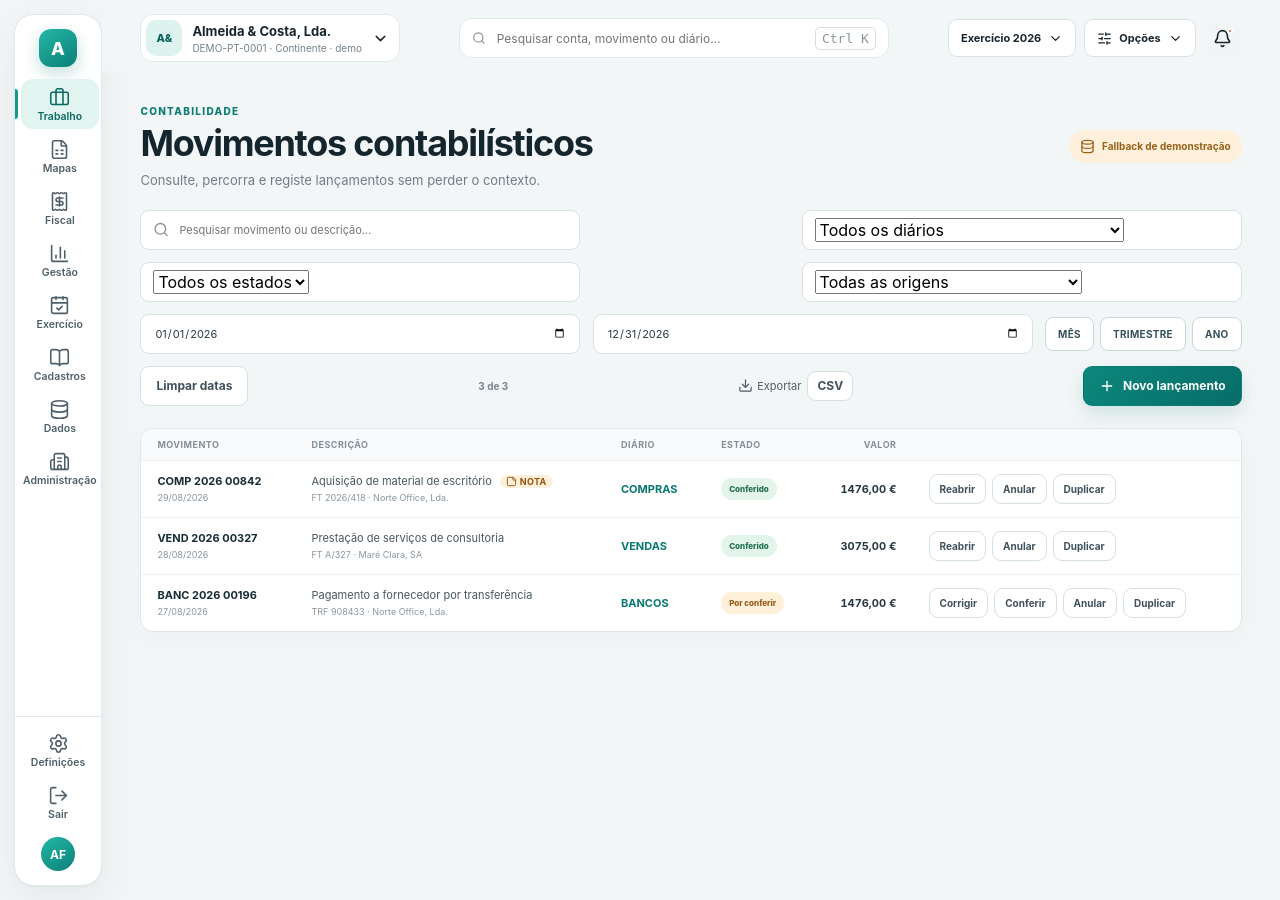
Test case: App › suggests movement accounts while typing in the editor
The width and height of the screenshot is (1280, 900).
Click the button "Novo lançamento": click(1162, 386) top-left (1083, 366), bottom-right (1242, 406)
(page scrolled)
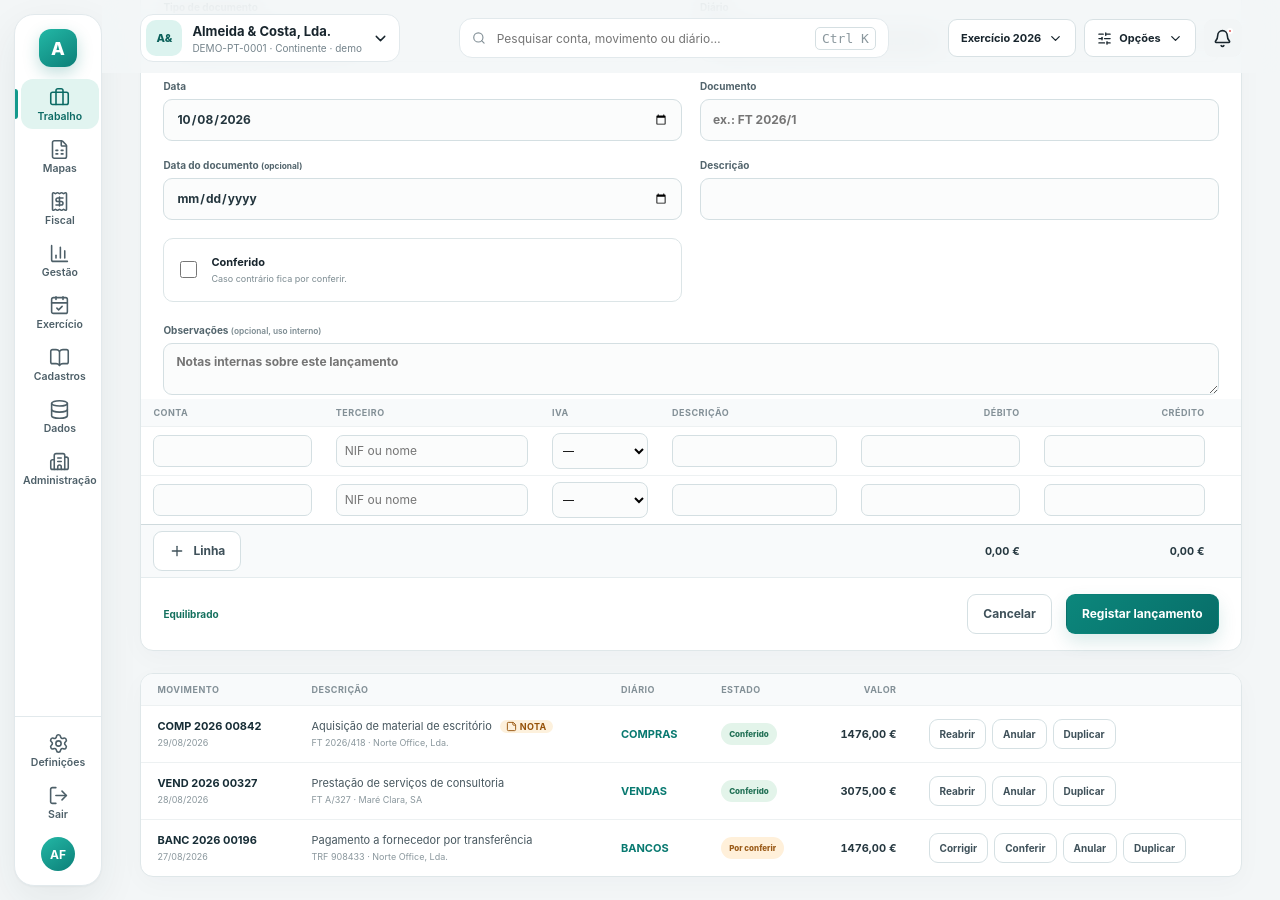
In the dropdown named "Conta da linha 1": (233, 451) top-left (153, 435), bottom-right (312, 467), type "22"
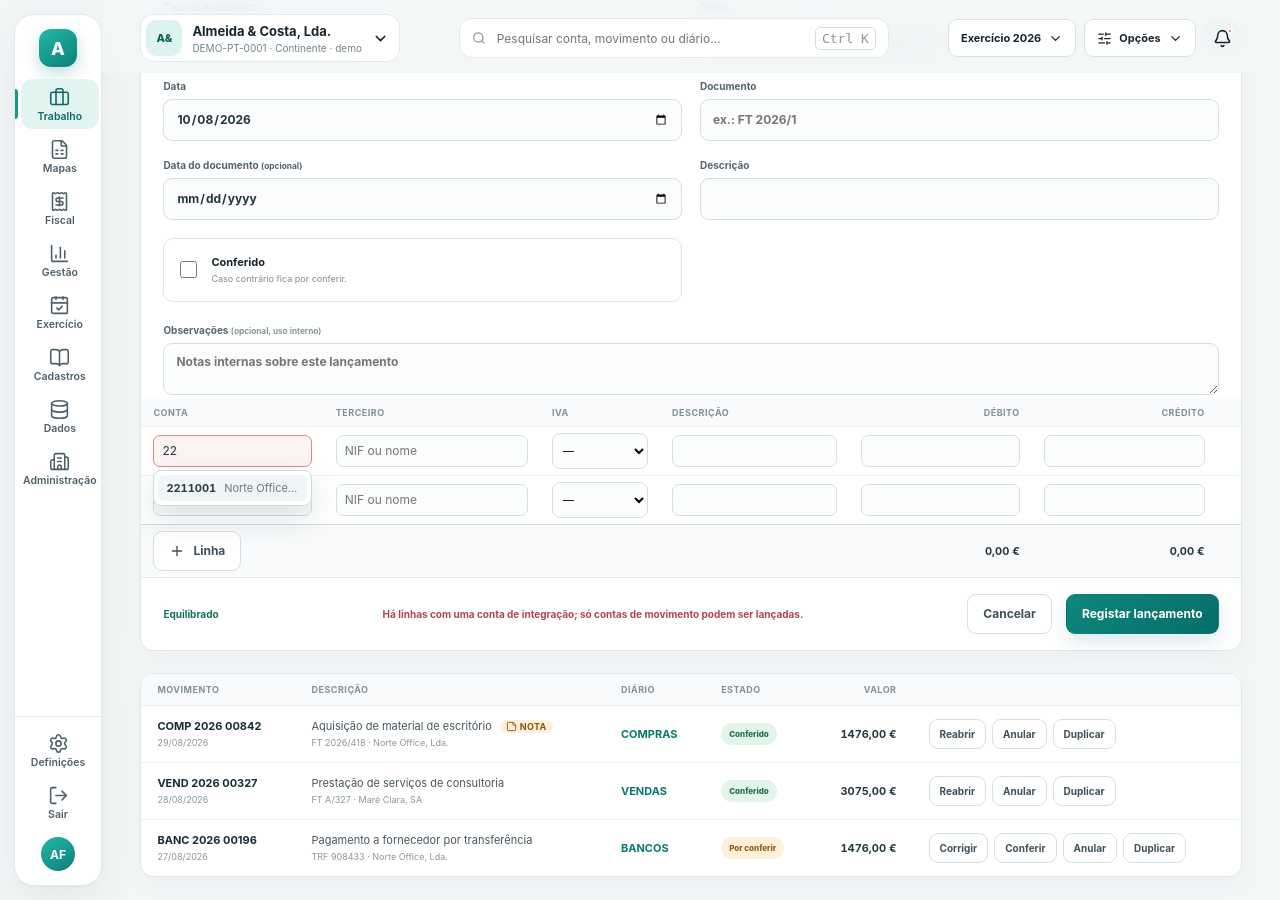
Expected: the text "2211001" is shown
Press the mouse on the text "2211001": (191, 488) top-left (166, 481), bottom-right (216, 495)
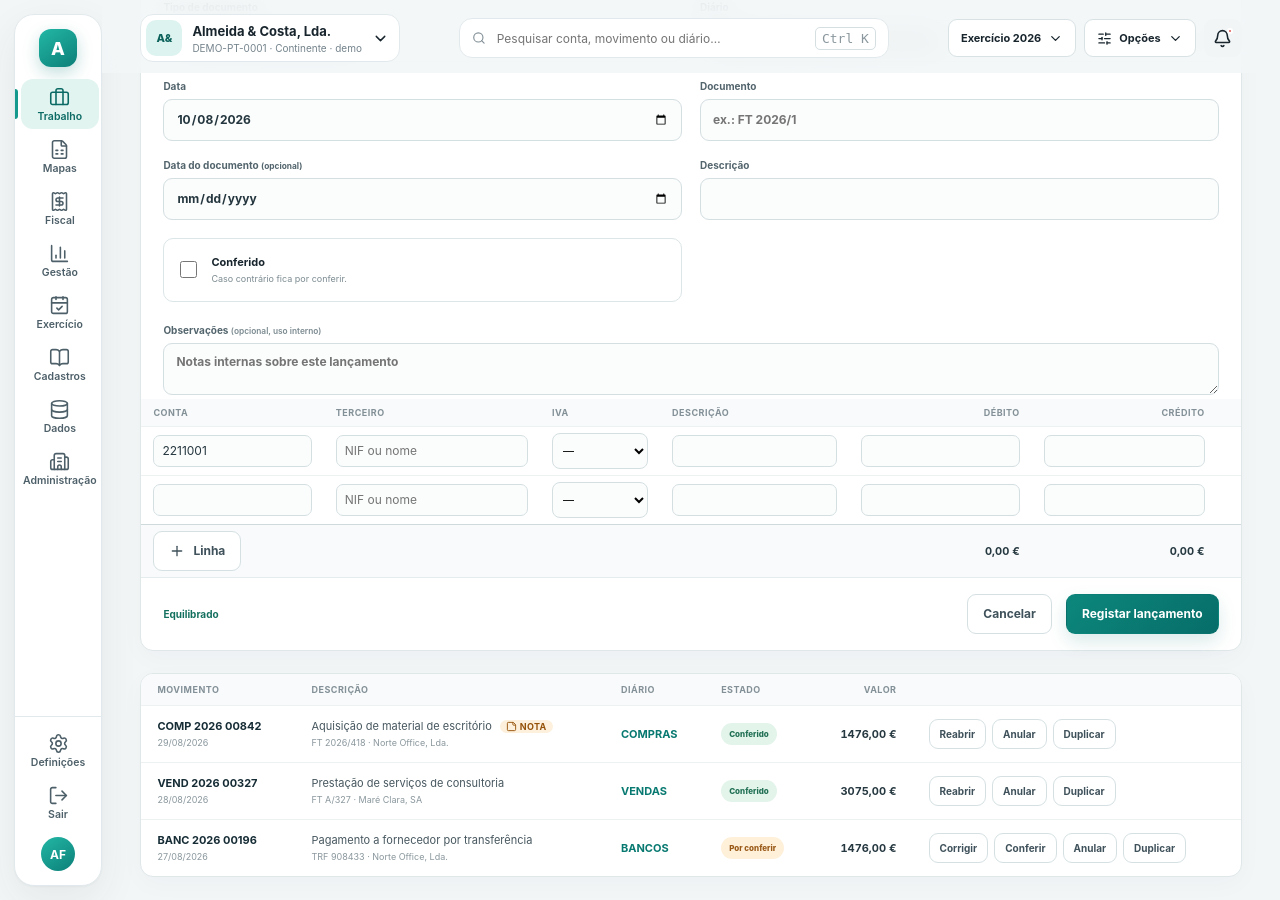
Expected: the dropdown named "Conta da linha 1" holds "2211001", top-left (153, 435), bottom-right (312, 467)
